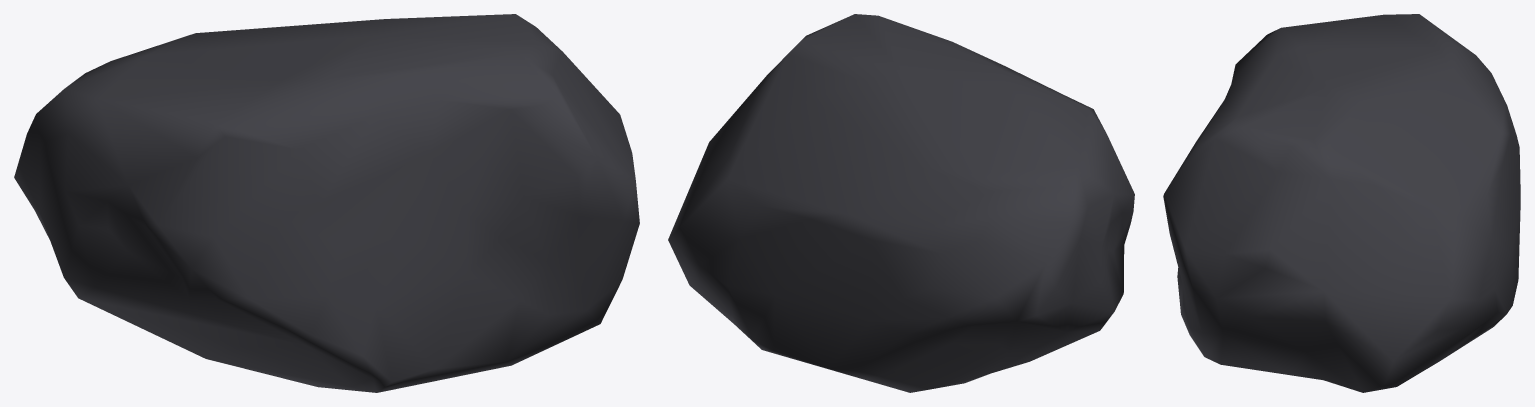
Rendered from Rock_2.glb.
The picture shows the model from 3 angles, left to right: view 1: azimuth 30°, elevation 25°; view 2: azimuth 150°, elevation 25°; view 3: azimuth 270°, elevation 25°; orthographic projection. The views are drawn at different scales.
Parts seen in each view (by area): view 1: Rock_2; view 2: Rock_2; view 3: Rock_2.
Boxes of the visible parts, x1,y1,x2,y2 form: Rock_2: [14, 14, 639, 392]; Rock_2: [668, 14, 1134, 392]; Rock_2: [1163, 14, 1520, 392].
Bounding box in the file's own units: 0.4176 × 0.2474 × 0.312.
Materials: 1 (1 with a texture image).
